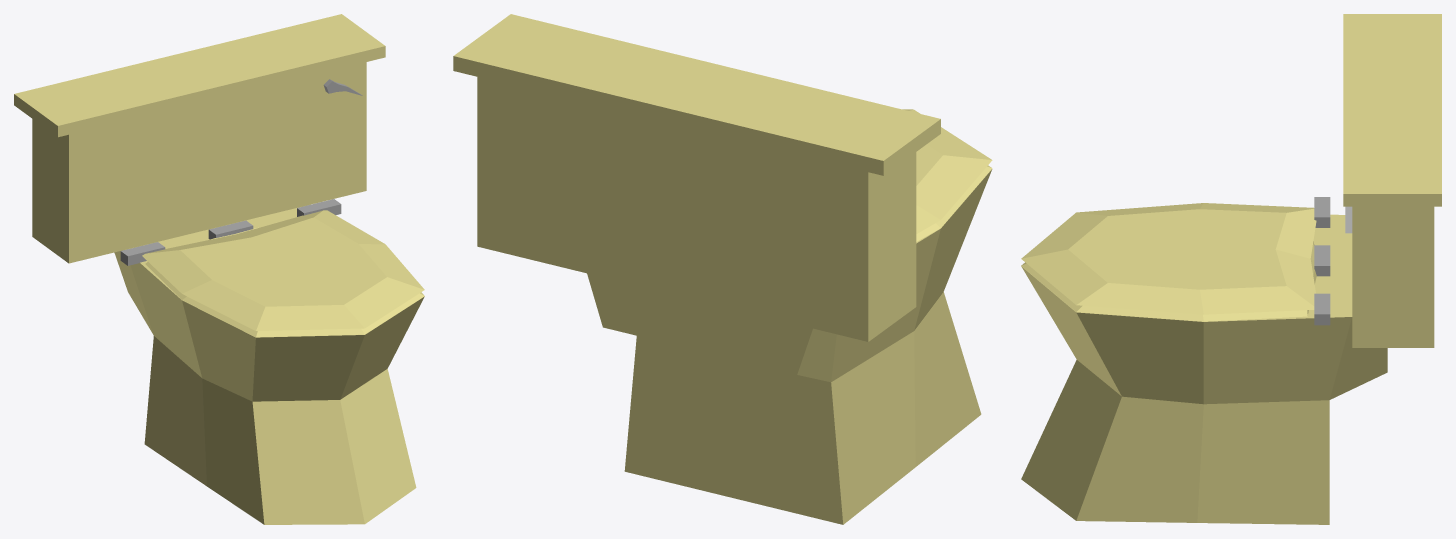
The model's file is Toilet4.fbx.
3 renders of one model, left to right at view 1: azimuth 30°, elevation 25°; view 2: azimuth 150°, elevation 25°; view 3: azimuth 270°, elevation 25°, orthographic. The views are drawn at different scales.
Parts seen in each view (by area): view 1: Cube.001, Cube.000, Cube.002; view 2: Cube.001, Cube.000, Cube.002; view 3: Cube.001, Cube.000, Cube.002.
Part boxes in pixels (x1=…): Cube.001: x1=14, y1=14, x2=424, y2=524; Cube.000: x1=120, y1=199, x2=424, y2=330; Cube.002: x1=145, y1=220, x2=424, y2=337; Cube.001: x1=453, y1=14, x2=992, y2=524; Cube.000: x1=902, y1=109, x2=992, y2=233; Cube.002: x1=916, y1=165, x2=992, y2=241; Cube.001: x1=1021, y1=14, x2=1441, y2=524; Cube.000: x1=1021, y1=197, x2=1330, y2=325; Cube.002: x1=1021, y1=241, x2=1330, y2=321.
Size of the model in its own units: 1.3 by 1.27 by 1.29.
